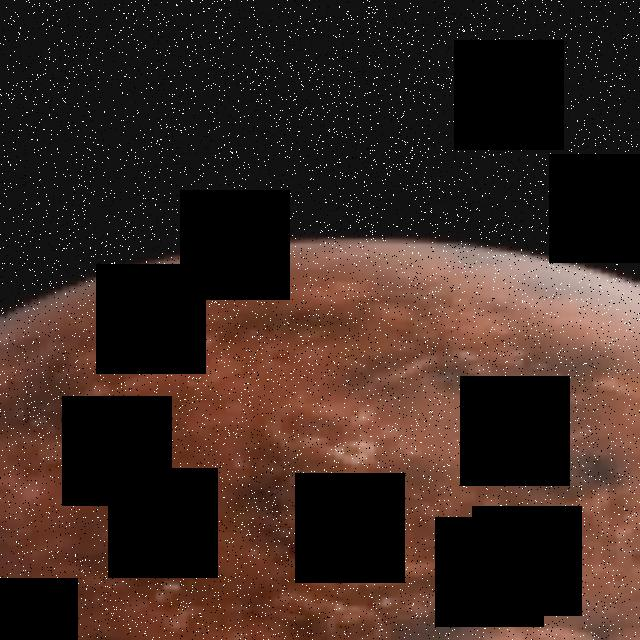Venus: (0, 238, 640, 640)
